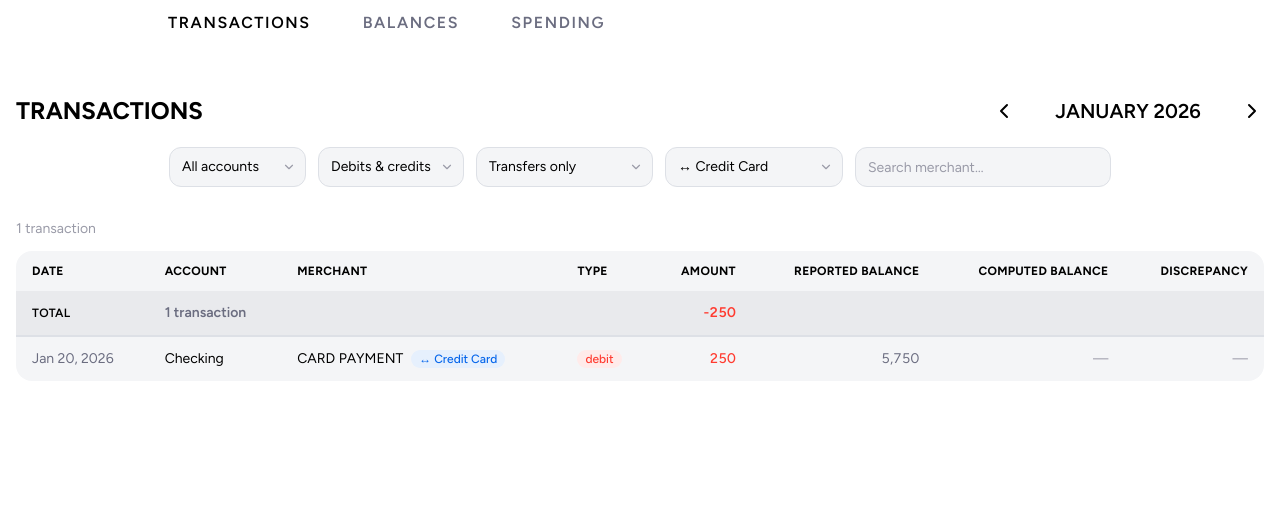
Scenario: Transactions page › excluding transfers drops and locks the counter account
expect the text "1 transaction" is shown: met, box [16,219,96,239]
Select "Exclude transfers" in the 3rd dropdown at (564, 167), box [476,147,653,187]
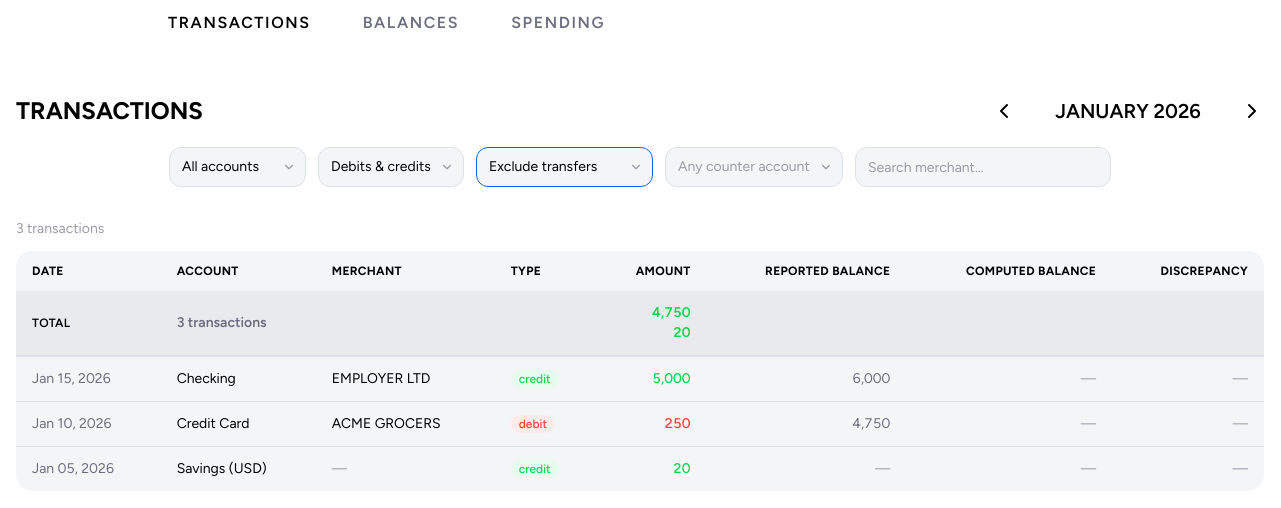
expect the text "3 transactions" is shown: met, box [16,219,104,239]
expect the dropdown named "Not available while transfers are excluded" is disabled: met, box [665,147,843,187]
